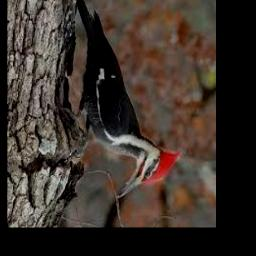Woodpecker: (75, 0, 181, 198)
